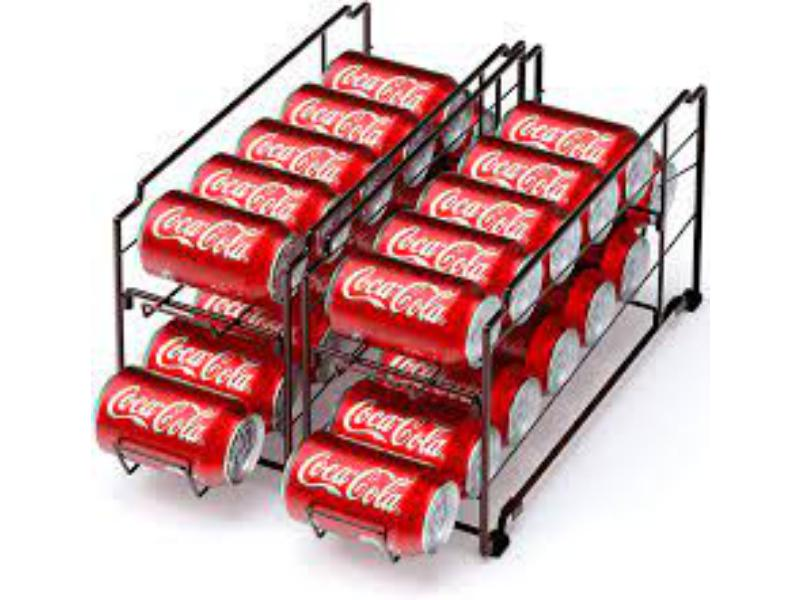can: (87, 366, 279, 505), (276, 427, 465, 568), (326, 250, 514, 377), (323, 372, 507, 501), (369, 205, 546, 334), (136, 187, 319, 307), (495, 99, 668, 213), (419, 170, 582, 288), (459, 136, 625, 242), (185, 151, 363, 249), (142, 314, 294, 416), (235, 117, 401, 200), (279, 77, 437, 160), (317, 48, 470, 120), (477, 365, 555, 445), (519, 317, 593, 390), (560, 267, 630, 341), (604, 224, 666, 294)
